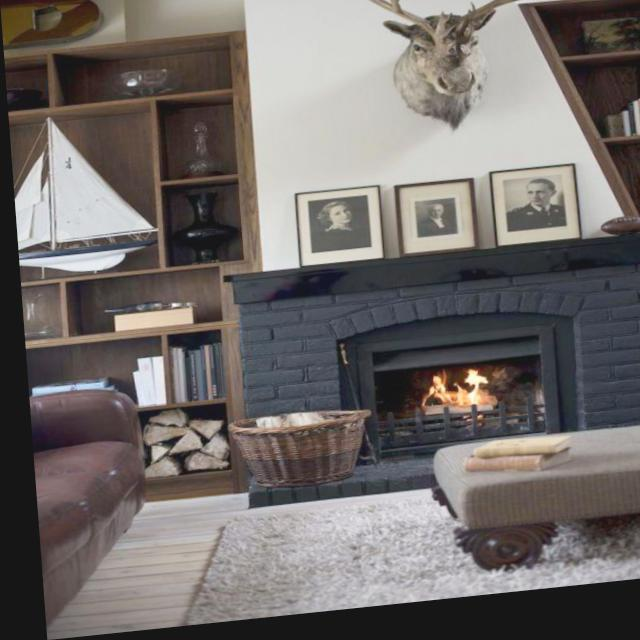Fire: (219, 244, 639, 516), (415, 375, 482, 428)
